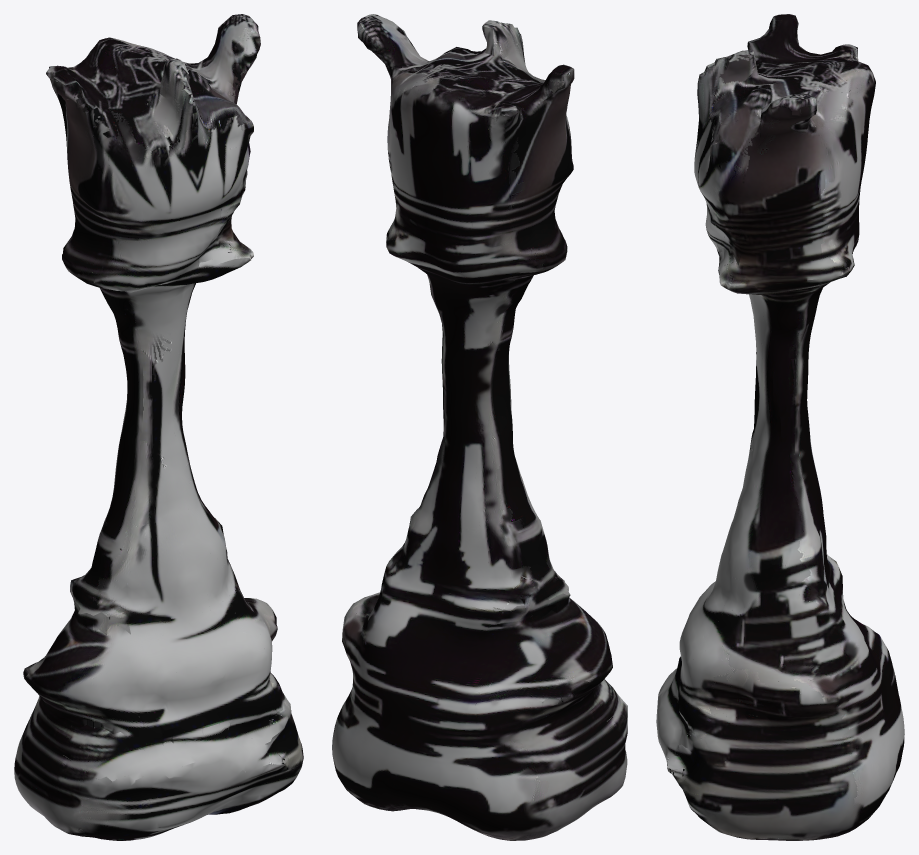
The model's file is ChaosModel1.fbx.
3 renders of one model, left to right at view 1: azimuth 30°, elevation 25°; view 2: azimuth 150°, elevation 25°; view 3: azimuth 270°, elevation 25°, orthographic.
Parts seen in each view (by area): view 1: Description: The obj-re_2hKcq0WhNlUPnwTGwjTZwnQFMPY; view 2: Description: The obj-re_2hKcq0WhNlUPnwTGwjTZwnQFMPY; view 3: Description: The obj-re_2hKcq0WhNlUPnwTGwjTZwnQFMPY.
Boxes of the visible parts, x1,y1,x2,y2 form: Description: The obj-re_2hKcq0WhNlUPnwTGwjTZwnQFMPY: (14,14,303,840); Description: The obj-re_2hKcq0WhNlUPnwTGwjTZwnQFMPY: (332,14,627,840); Description: The obj-re_2hKcq0WhNlUPnwTGwjTZwnQFMPY: (656,14,904,840).
Bounding box in the file's own units: 30.56 × 90.42 × 26.99.
1 material, 1 textured.
